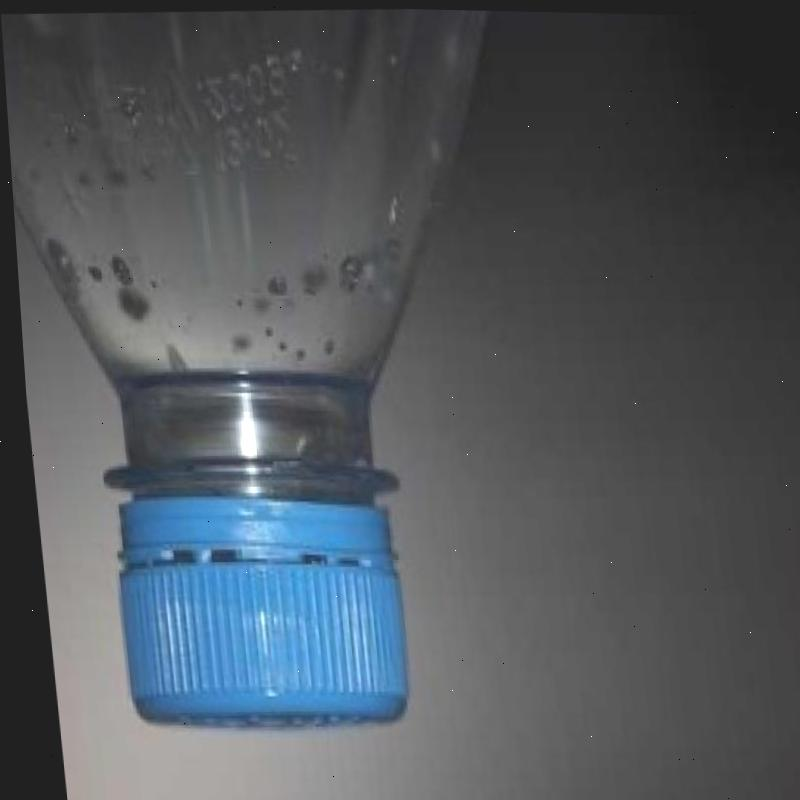botella: (0, 0, 543, 739)
